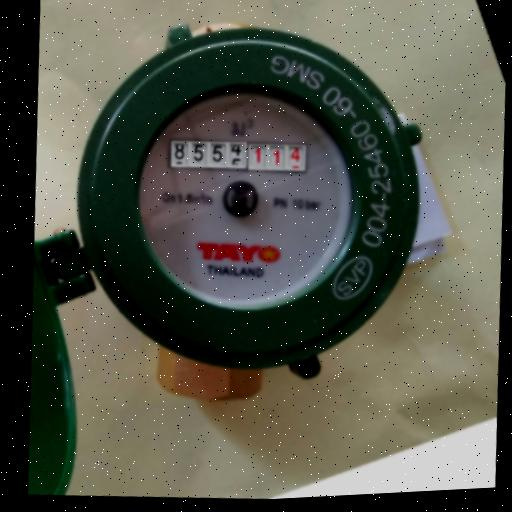1: (250, 146, 266, 167), (269, 146, 285, 167)
4: (228, 144, 244, 167), (287, 147, 303, 170)
5: (208, 144, 224, 166), (190, 144, 206, 165)
8: (172, 143, 188, 165)
border_water_meter_number: (166, 131, 309, 181)
